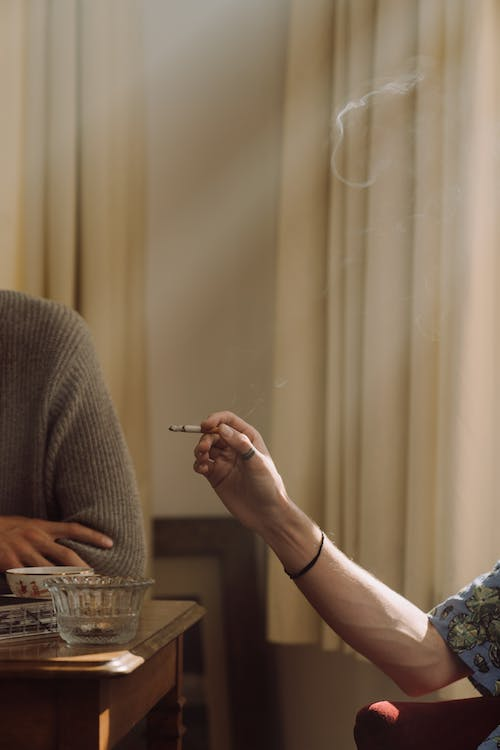cigarette: (164, 419, 222, 434)
